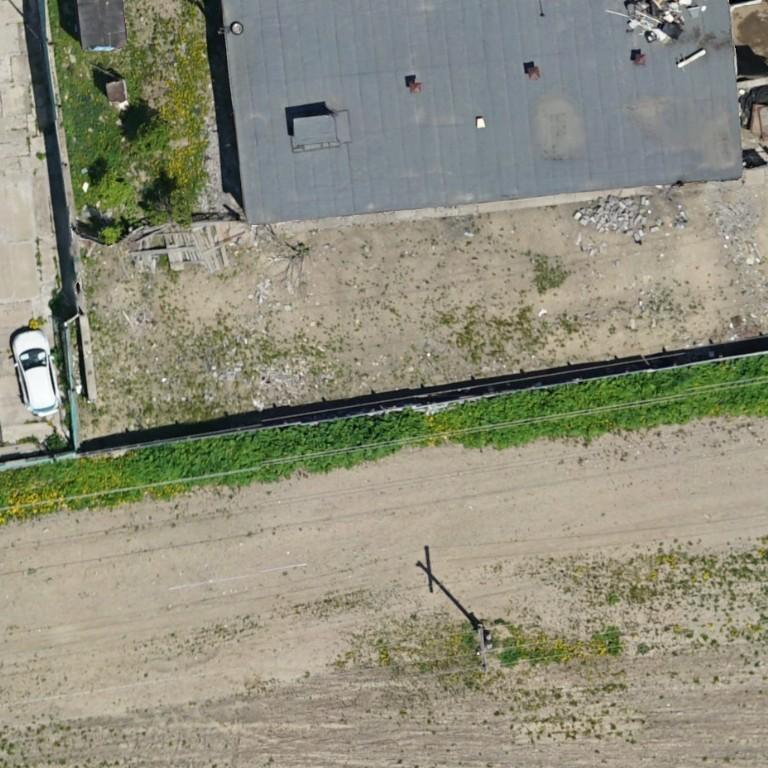hogweed: (474, 354, 767, 443), (125, 409, 428, 484)
